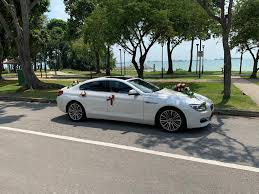car: (53, 69, 225, 151)
